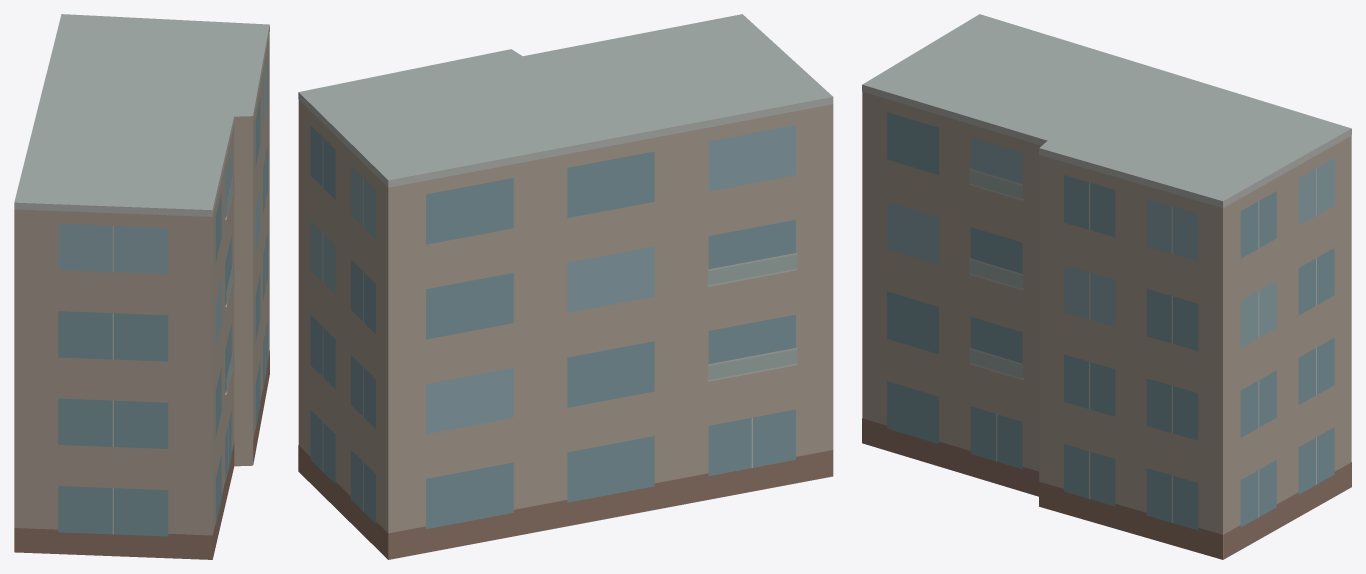
Rendered from survey-upis-33003765.glb.
3 renders of one model, left to right at view 1: azimuth 30°, elevation 25°; view 2: azimuth 150°, elevation 25°; view 3: azimuth 270°, elevation 25°, orthographic. The views are drawn at different scales.
Parts seen in each view (by area): view 1: survey-upis-33003765.tmp; view 2: survey-upis-33003765.tmp; view 3: survey-upis-33003765.tmp.
Part boxes in pixels (<box>): survey-upis-33003765.tmp: <box>14,14,269,559</box>; survey-upis-33003765.tmp: <box>298,14,833,559</box>; survey-upis-33003765.tmp: <box>862,14,1351,559</box>.
Size of the model in its own units: 14.23 by 12.7 by 15.73.
